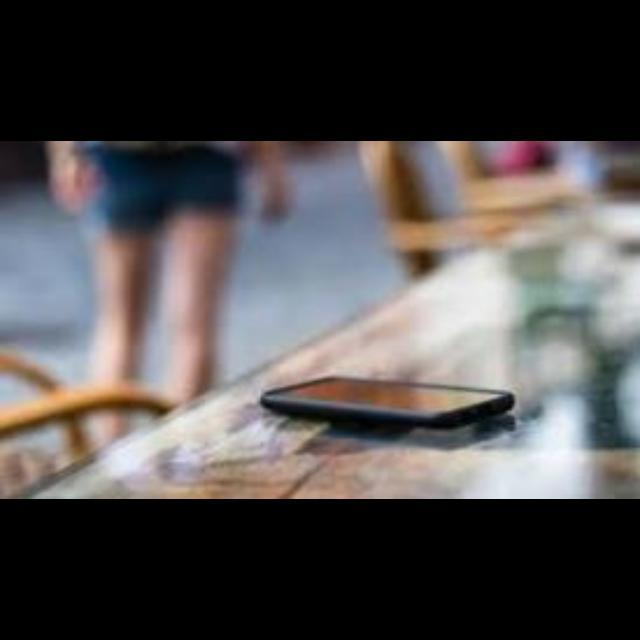Phone: (262, 376, 516, 432)
